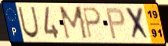4: (43, 6, 61, 41)
M: (58, 6, 90, 42)
P: (104, 7, 126, 41), (81, 6, 103, 40)
U: (17, 6, 41, 40)
X: (124, 7, 152, 42)
